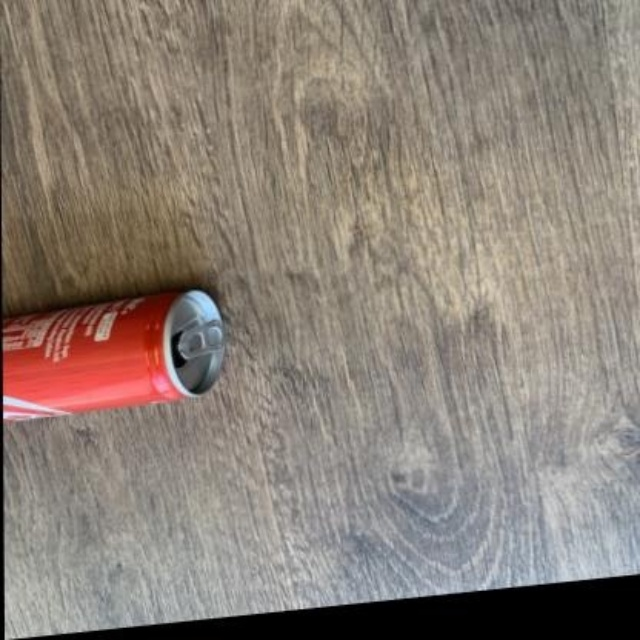trash: (3, 291, 222, 418)
